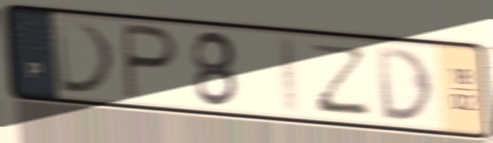8: (189, 28, 241, 110)
D: (51, 15, 121, 97), (372, 44, 438, 124)
I: (279, 32, 304, 118)
P: (119, 20, 181, 104)
Z: (312, 41, 372, 118)
